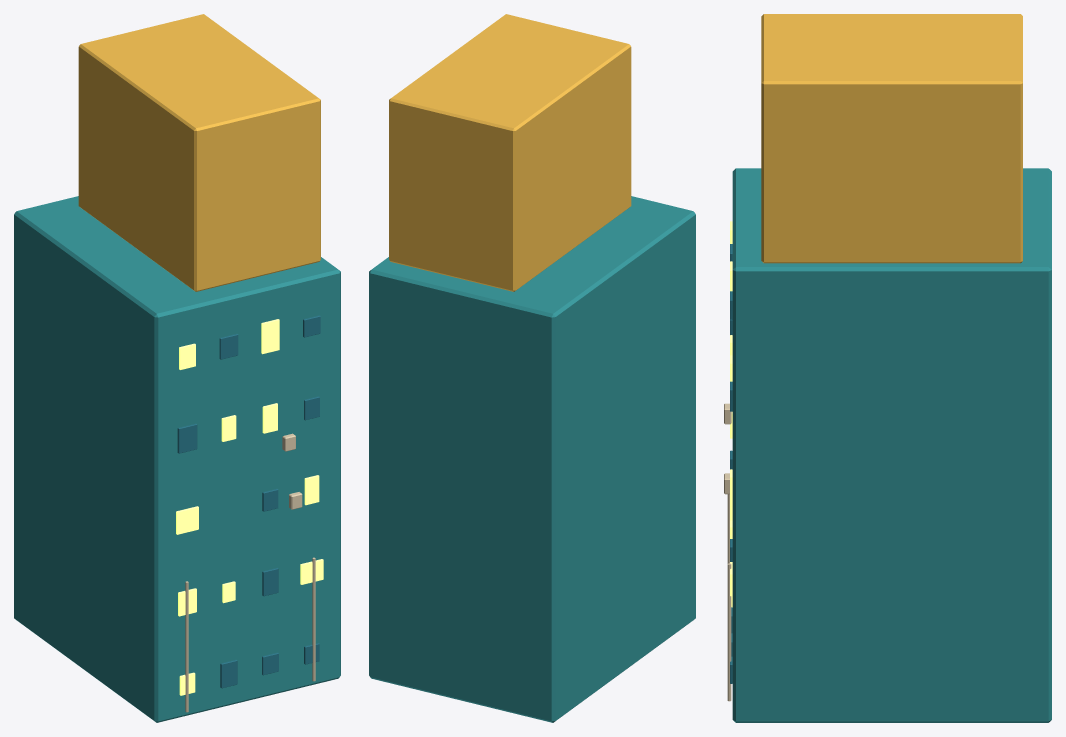
File: building_035_seed11.glb
3 renders of one model, left to right at view 1: azimuth 30°, elevation 25°; view 2: azimuth 150°, elevation 25°; view 3: azimuth 270°, elevation 25°, orthographic. The views are drawn at different scales.
Visible parts, largest first — view 1: building_035_seed11; view 2: building_035_seed11; view 3: building_035_seed11.
Part boxes in pixels (x1,y1,x2,y2): building_035_seed11: (14,14,340,722); building_035_seed11: (369,14,695,722); building_035_seed11: (724,14,1051,722).
Bounding box in the file's own units: 5.85 × 17.16 × 7.98.
